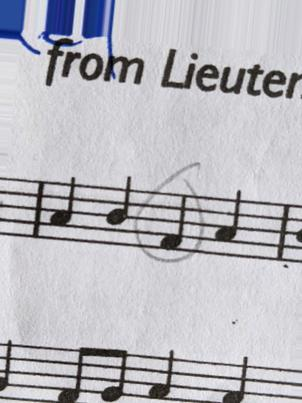A: (44, 173, 82, 240), (212, 187, 244, 256), (145, 350, 177, 402)
B: (100, 173, 132, 245)
F: (152, 191, 191, 252)
